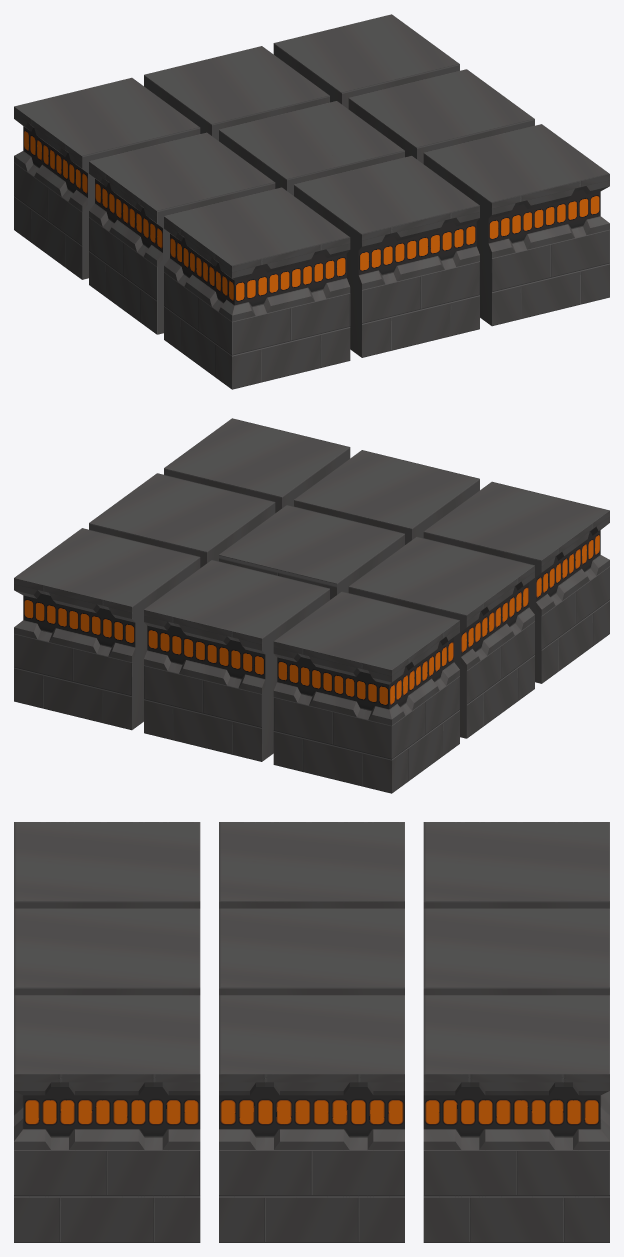
File: zordoom_prison_blocks_1.glb
The picture shows the model from 3 angles, top to bottom: view 1: azimuth 30°, elevation 25°; view 2: azimuth 150°, elevation 25°; view 3: azimuth 270°, elevation 25°; orthographic projection. The views are drawn at different scales.
Visible parts, largest first — view 1: Prison01, Prison00, Prison06, Prison03, Prison05, Prison07, Prison04, Prison02, Prison08; view 2: Prison05, Prison02, Prison07, Prison03, Prison01, Prison06, Prison04, Prison00, Prison08; view 3: Prison06, Prison07, Prison04, Prison00, Prison02, Prison08, Prison01, Prison05, Prison03.
Part boxes in pixels (left/top/right/bottom): Prison01: left=164, top=187, right=350, bottom=389; Prison00: left=294, top=156, right=479, bottom=357; Prison06: left=423, top=124, right=609, bottom=326; Prison03: left=89, top=132, right=275, bottom=334; Prison05: left=14, top=77, right=200, bottom=279; Prison07: left=273, top=14, right=459, bottom=108; Prison04: left=348, top=69, right=534, bottom=163; Prison02: left=144, top=46, right=329, bottom=140; Prison08: left=219, top=101, right=404, bottom=195; Prison05: left=273, top=591, right=459, bottom=793; Prison02: left=144, top=560, right=329, bottom=761; Prison07: left=14, top=528, right=200, bottom=730; Prison03: left=348, top=536, right=534, bottom=738; Prison01: left=423, top=481, right=609, bottom=683; Prison06: left=164, top=418, right=350, bottom=512; Prison04: left=89, top=473, right=275, bottom=567; Prison00: left=294, top=450, right=479, bottom=544; Prison08: left=219, top=505, right=404, bottom=599; Prison06: left=14, top=995, right=200, bottom=1242; Prison07: left=423, top=995, right=609, bottom=1242; Prison04: left=219, top=995, right=404, bottom=1242; Prison00: left=14, top=908, right=200, bottom=995; Prison02: left=423, top=908, right=609, bottom=995; Prison08: left=219, top=908, right=404, bottom=995; Prison01: left=14, top=822, right=200, bottom=908; Prison05: left=423, top=822, right=609, bottom=908; Prison03: left=219, top=822, right=404, bottom=908.
Bounding box in the file's own units: 6.4 × 2 × 6.4.
1 material, 1 textured.
